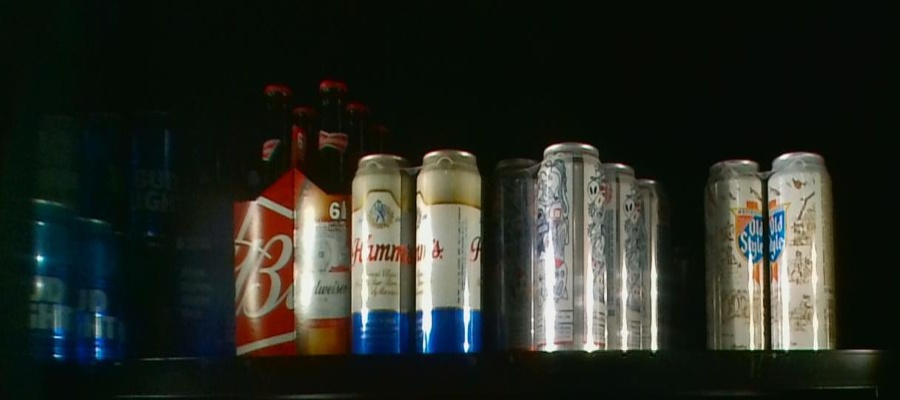bottle: (496, 158, 664, 352), (235, 77, 346, 357), (352, 152, 486, 355), (704, 158, 833, 351), (138, 106, 233, 357), (21, 202, 130, 360)
